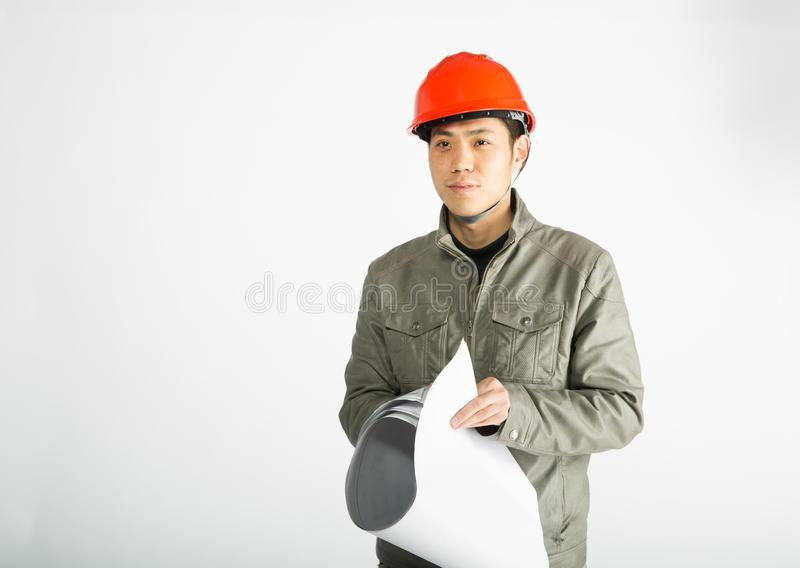helmet: (404, 50, 536, 144)
